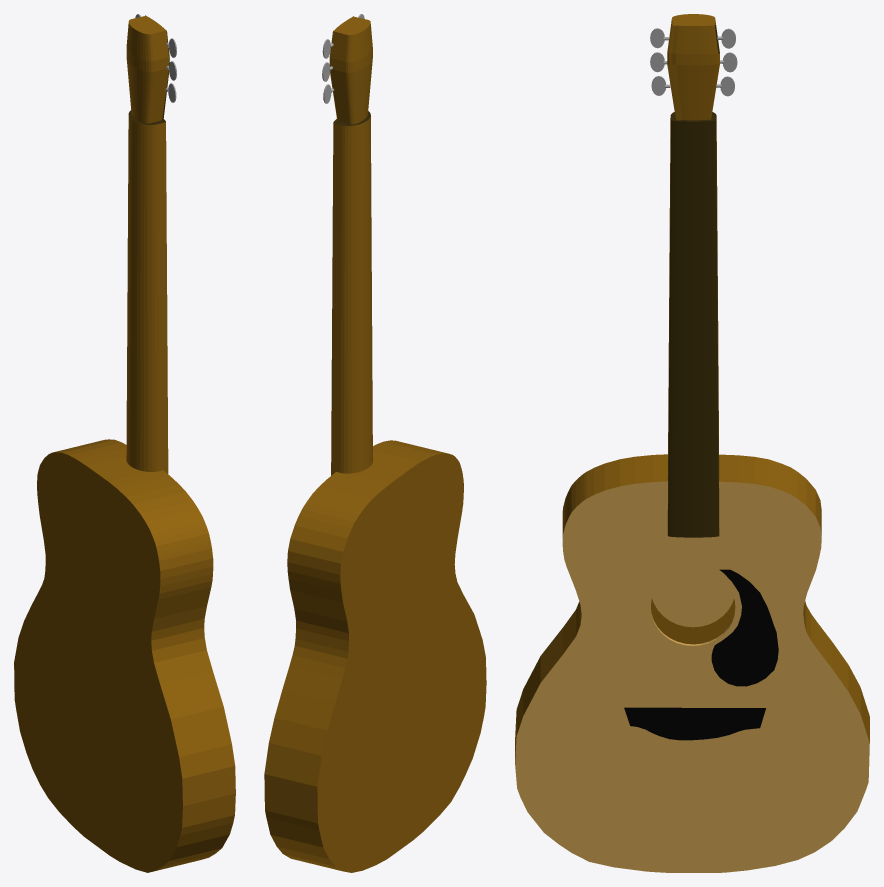
File: Guitar.glb
3 views of the same model, side by side, from view 1: azimuth 30°, elevation 25°; view 2: azimuth 150°, elevation 25°; view 3: azimuth 270°, elevation 25° (orthographic). The views are drawn at different scales.
Visible parts, largest first — view 1: Guitar; view 2: Guitar; view 3: Guitar.
Boxes of the visible parts, box(x1,y1,x2,y2) form: Guitar: box(14, 14, 235, 872); Guitar: box(264, 14, 486, 872); Guitar: box(515, 14, 869, 872).
Bounding box in the file's own units: 0.1463 × 1.85 × 0.6995.
